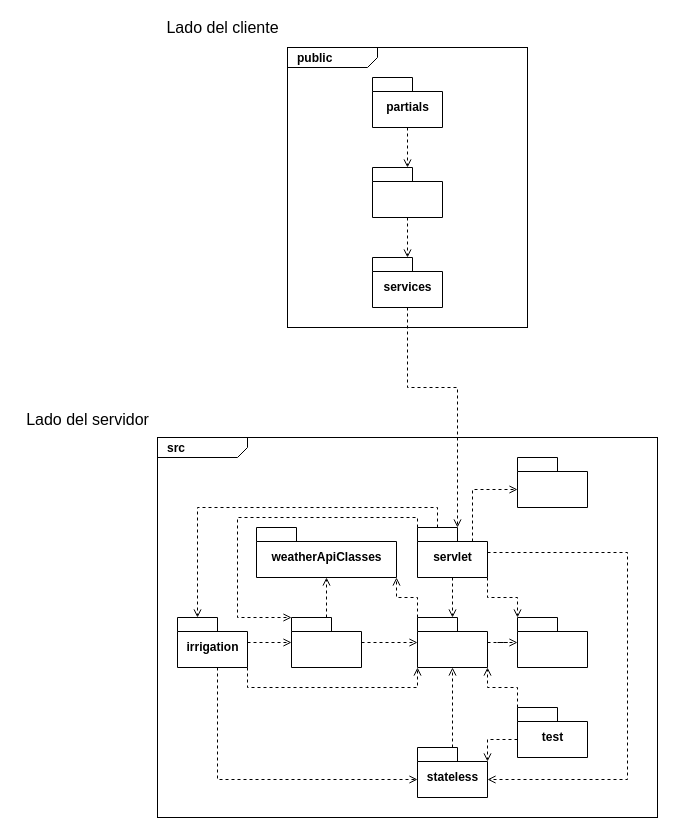
Some shapes in this 675 by 835 pixel diagram are drawn without their labels. Each missing label, with the centre of its shape:
"climate" goes at (x=326, y=642).
"controllers" goes at (x=407, y=192).
"et" goes at (x=552, y=482).
"model" goes at (x=452, y=642).
"util" goes at (x=552, y=642).
